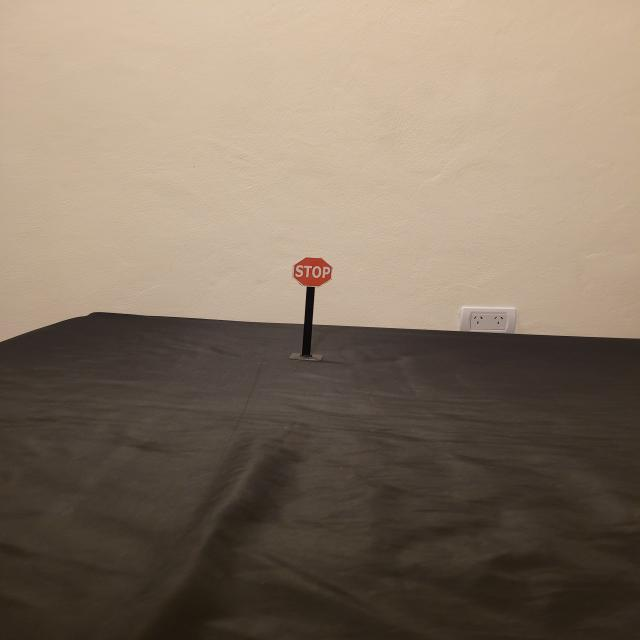stop: (291, 257, 334, 288)
